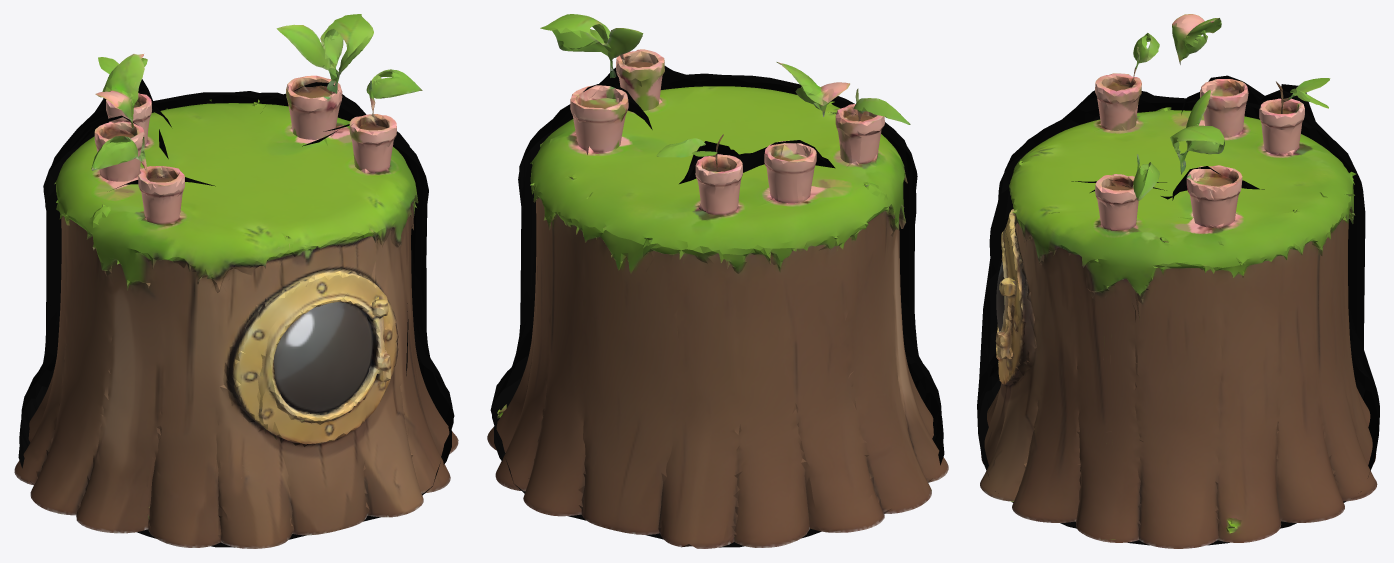
The model's file is Home_Sprig.glb.
3 views of the same model, side by side, from view 1: azimuth 30°, elevation 25°; view 2: azimuth 150°, elevation 25°; view 3: azimuth 270°, elevation 25° (orthographic). The views are drawn at different scales.
Visible parts, largest first — view 1: Home_Sprig, Home_Sprig_OutlineHull; view 2: Home_Sprig, Home_Sprig_OutlineHull; view 3: Home_Sprig, Home_Sprig_OutlineHull.
Part boxes in pixels (box(x1,y1,x2,y2)): Home_Sprig: box(14, 14, 458, 548); Home_Sprig_OutlineHull: box(18, 79, 454, 547); Home_Sprig: box(487, 14, 948, 548); Home_Sprig_OutlineHull: box(490, 66, 944, 547); Home_Sprig: box(980, 14, 1377, 548); Home_Sprig_OutlineHull: box(977, 75, 1379, 545).
Bounding box in the file's own units: 1.84 × 1.89 × 1.65.
2 materials, 1 textured.
